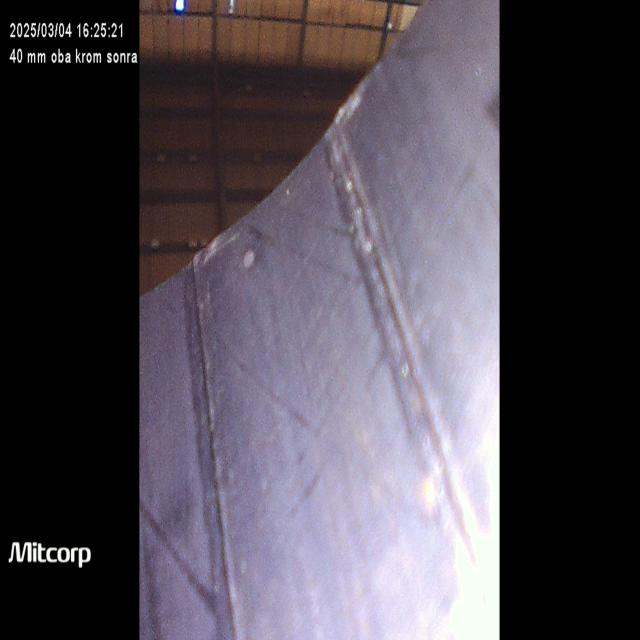hata_8.1: (203, 318, 450, 571), (244, 192, 452, 339)
